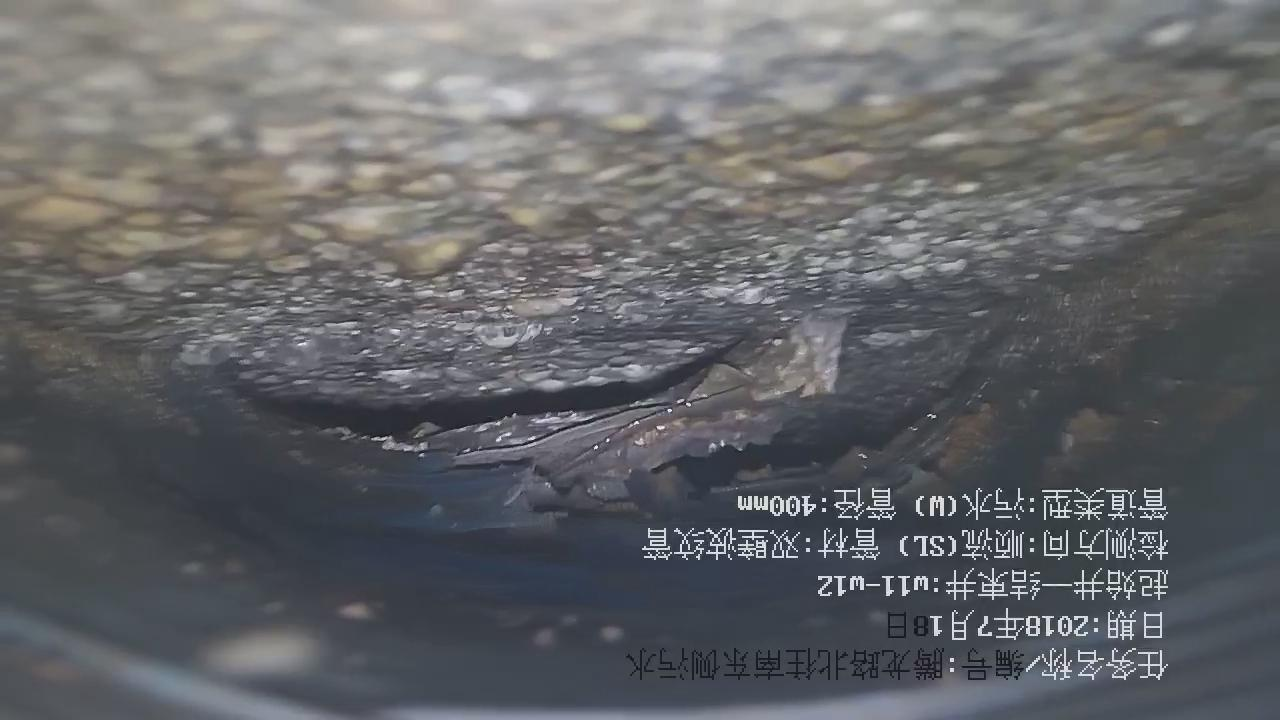FZ: (1, 1, 1280, 402)
PL: (121, 353, 1035, 559)
